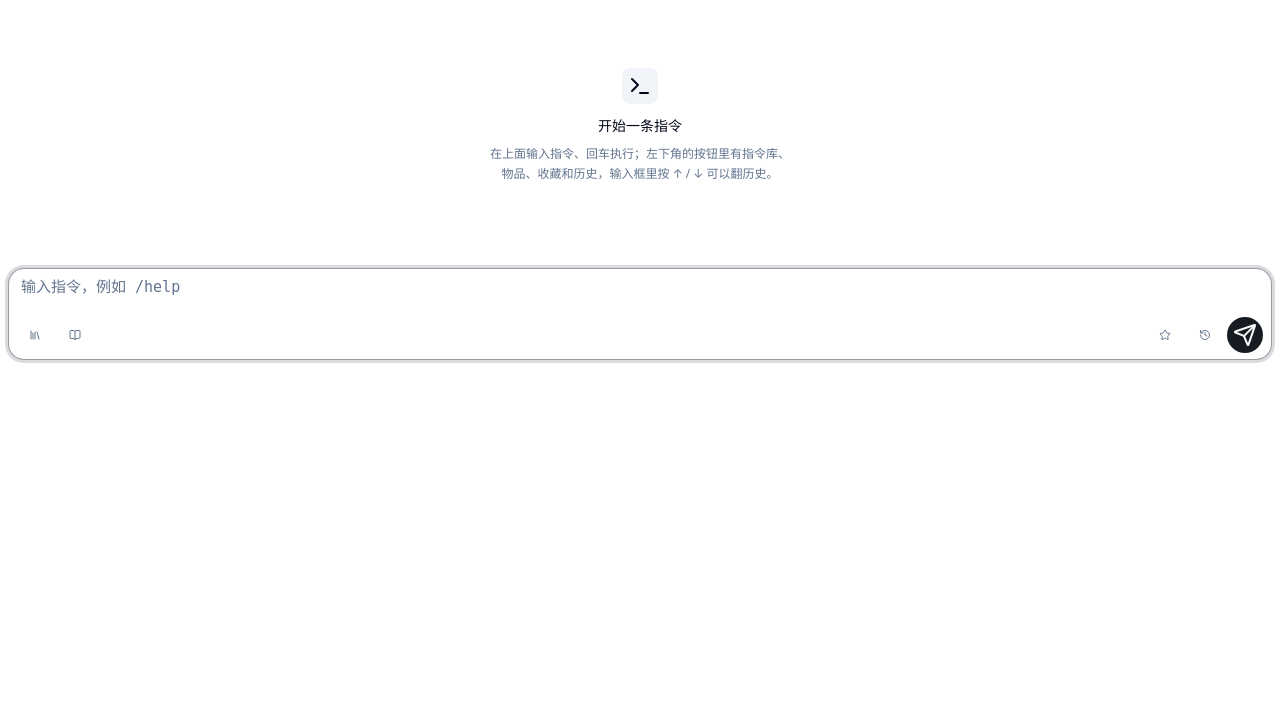
Scenario: CommandPage 工具弹框 › Esc 关闭弹框后焦点回到指令输入框
Click the button named "物品": (75, 335) [57, 317, 93, 353]
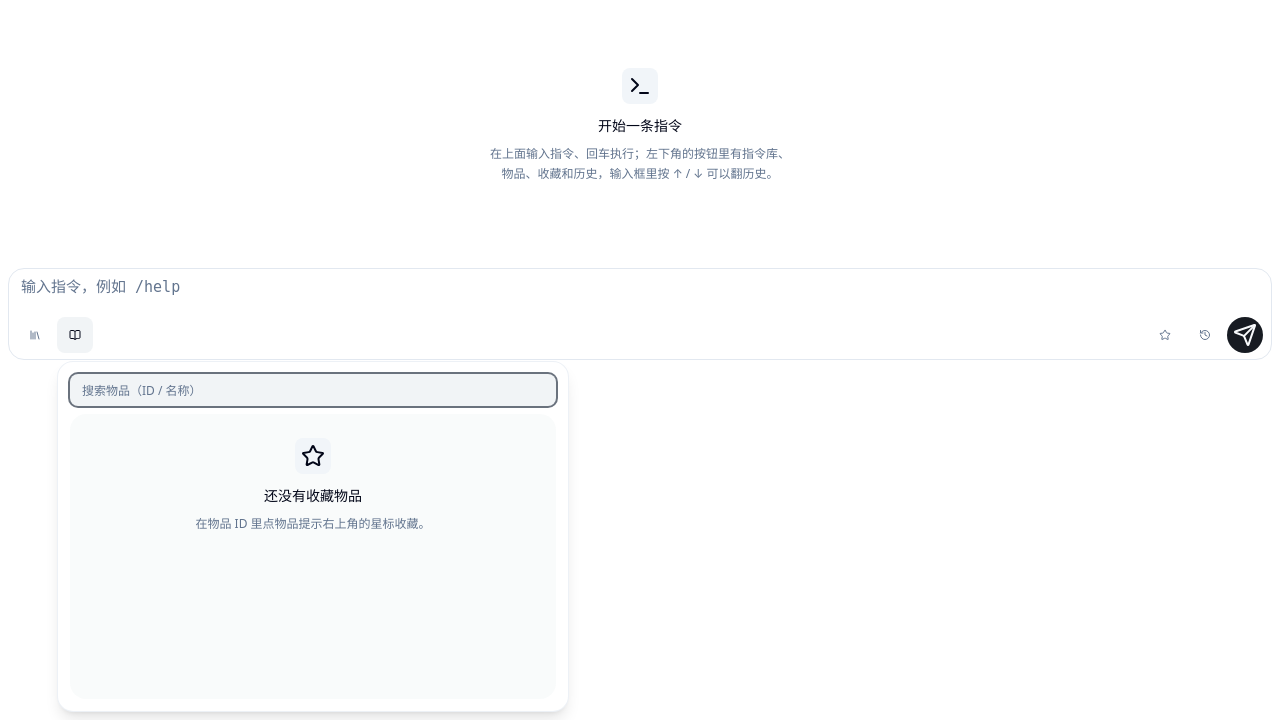
Press Escape in the dialog, box [57, 361, 569, 712]
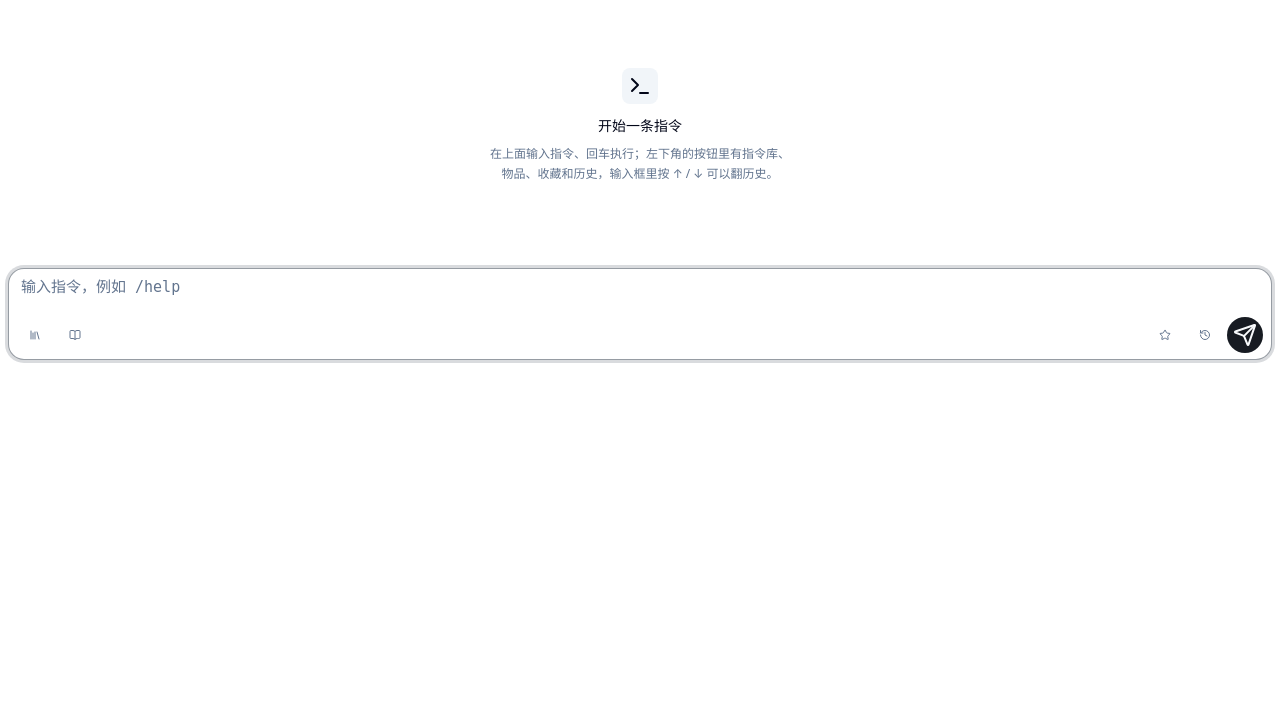
Expected: the dialog is gone
